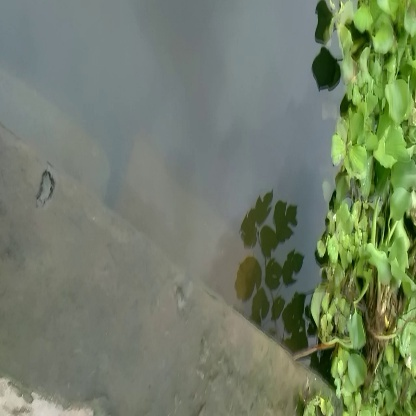grass: (333, 75, 416, 170)
